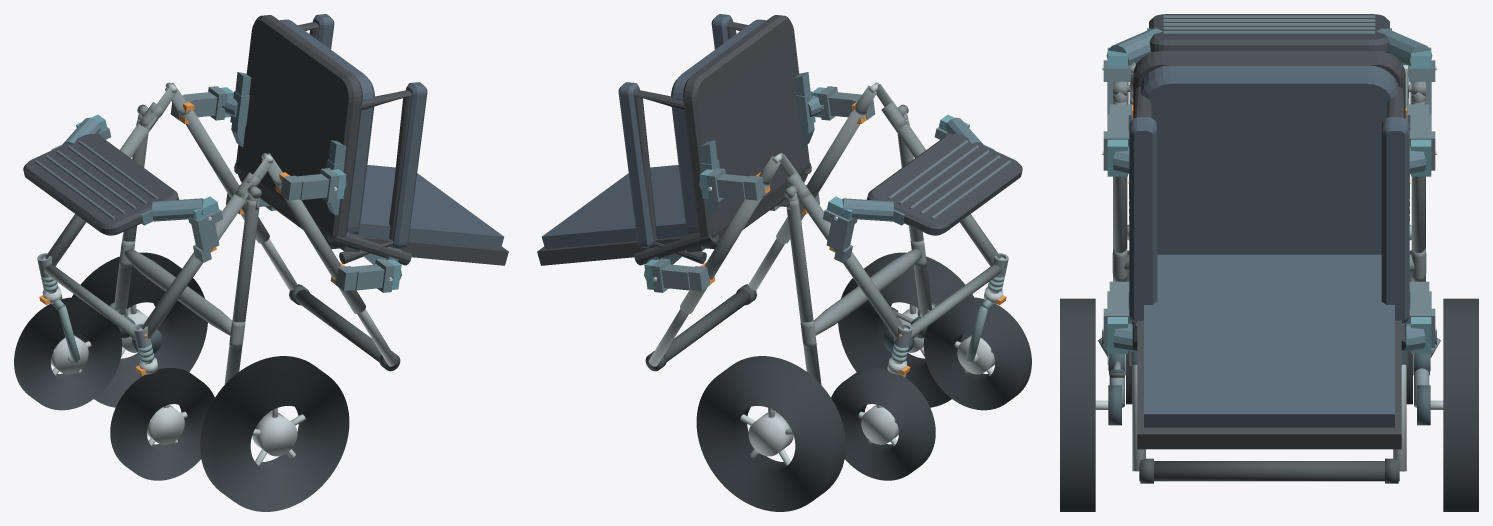
File: S08_w550_state3_wheel_L.glb
3 renders of one model, left to right at view 1: azimuth 30°, elevation 25°; view 2: azimuth 150°, elevation 25°; view 3: azimuth 270°, elevation 25°, orthographic. The views are drawn at different scales.
Parts seen in each view (by area): view 1: S08_Cabin, RL_tire.002, S08_Cabin_Footrest, FR_tire.002, FL_tire.002, RR_tire.002, V46_rear_leg_-1.003, S08_Cabin_Footrest_LowDocks, V46_rearbar.003, main_lower_-1.003, main_upper_-1.003, main_upper_1.003 (+14 smaller); view 2: S08_Cabin, RR_tire.002, S08_Cabin_Footrest, FL_tire.002, FR_tire.002, RL_tire.002, V46_rear_leg_1.003, S08_Cabin_Footrest_LowDocks, V46_rearbar.003, main_lower_1.003, main_upper_1.003, main_upper_-1.003 (+14 smaller); view 3: S08_Cabin, S08_Cabin_Footrest, RL_tire.002, RR_tire.002, round_handle.002, S08_Cabin_Footrest_LowDocks, S08_Cabin_HighDocks, S08_Cabin_Mount_M, V46_rear_leg_1.003, V46_rear_leg_-1.003, Universal_Cabin_Receiver_M_-1, Universal_Cabin_Receiver_M_1 (+8 smaller).
Boxes of the visible parts, <box> form: S08_Cabin: <box>231,14,508,265</box>; RL_tire.002: <box>200,356,349,511</box>; S08_Cabin_Footrest: <box>23,134,178,235</box>; FR_tire.002: <box>14,297,122,410</box>; FL_tire.002: <box>110,368,214,480</box>; RR_tire.002: <box>72,252,207,407</box>; V46_rear_leg_-1.003: <box>224,199,259,384</box>; S08_Cabin_Footrest_LowDocks: <box>51,114,218,225</box>; V46_rearbar.003: <box>123,249,232,335</box>; main_lower_-1.003: <box>141,192,248,338</box>; main_upper_-1.003: <box>276,185,365,313</box>; main_upper_1.003: <box>179,110,269,243</box>; S08_Cabin: <box>537,14,814,265</box>; RR_tire.002: <box>696,356,845,511</box>; S08_Cabin_Footrest: <box>867,134,1022,235</box>; FL_tire.002: <box>923,297,1031,410</box>; FR_tire.002: <box>831,368,935,480</box>; RL_tire.002: <box>838,252,973,407</box>; V46_rear_leg_1.003: <box>786,199,821,384</box>; S08_Cabin_Footrest_LowDocks: <box>827,114,994,225</box>; V46_rearbar.003: <box>813,249,922,335</box>; main_lower_1.003: <box>797,192,904,338</box>; main_upper_1.003: <box>680,185,769,313</box>; main_upper_-1.003: <box>776,110,866,243</box>; S08_Cabin: <box>1129,51,1409,449</box>; S08_Cabin_Footrest: <box>1149,14,1389,52</box>; RL_tire.002: <box>1060,298,1095,511</box>; RR_tire.002: <box>1443,298,1478,511</box>; round_handle.002: <box>1139,461,1399,481</box>; S08_Cabin_Footrest_LowDocks: <box>1102,28,1436,70</box>; S08_Cabin_HighDocks: <box>1102,317,1436,362</box>; S08_Cabin_Mount_M: <box>1102,139,1436,176</box>; V46_rear_leg_1.003: <box>1411,101,1425,281</box>; V46_rear_leg_-1.003: <box>1113,101,1127,281</box>; Universal_Cabin_Receiver_M_-1: <box>1103,104,1131,170</box>; Universal_Cabin_Receiver_M_1: <box>1407,104,1435,170</box>.
Bounding box in the file's own units: 1.05 × 0.9654 × 0.7071.
